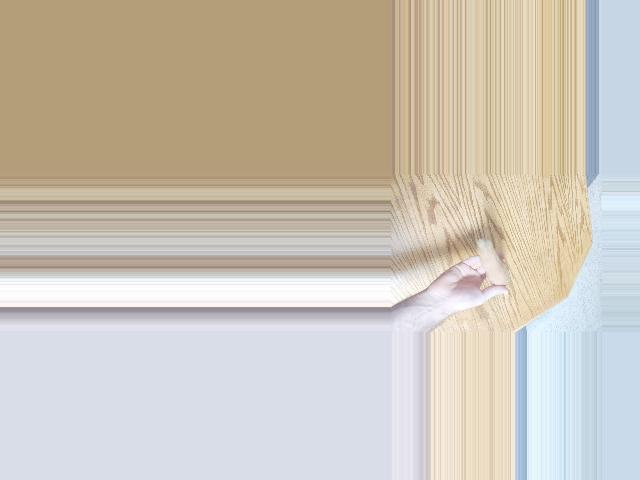sweet_potato: (474, 238, 508, 289)
